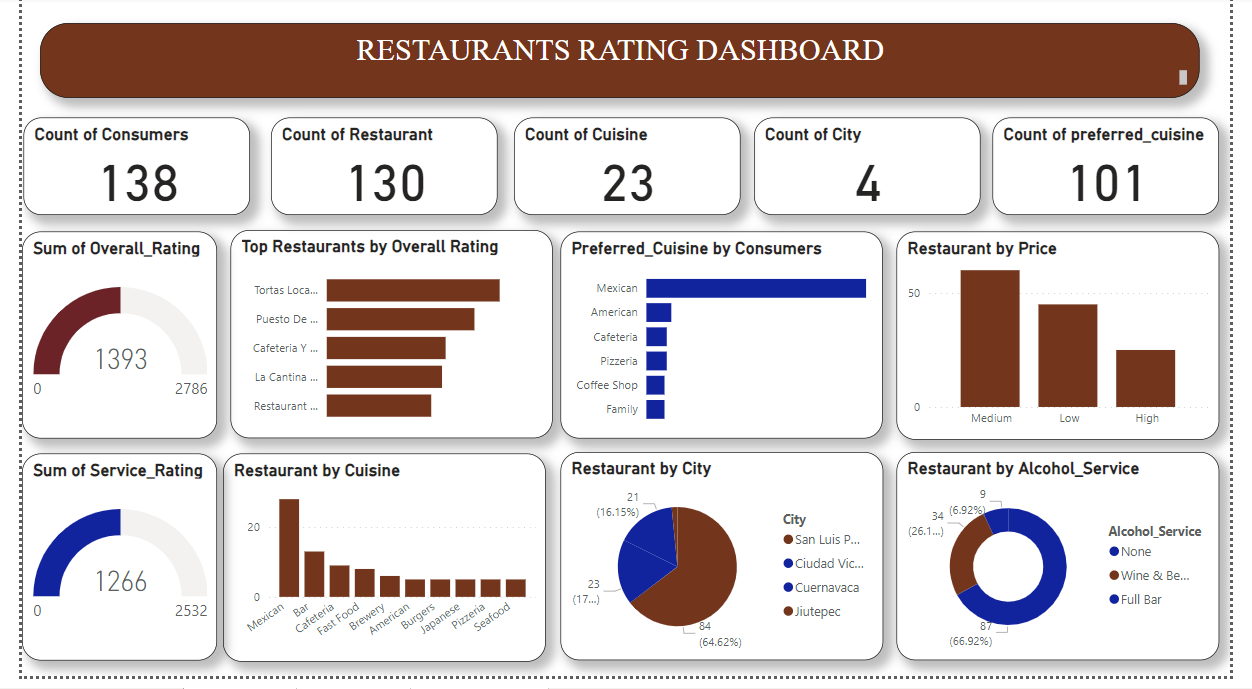

The dashboard page shown, as its layout file describes it:
{"tool":"powerbi","page":{"name":"Page 1","canvas":[1280,720],"ordinal":0},"visuals":[{"type":"barChart","title":"Top Restaurants by Overall Rating","fields":{"Category":["restaurants.Name"],"Y":["Sum(ratings.Overall_Rating)"]},"box":[220.9,247.9,341,220.9],"z":0},{"type":"barChart","title":"Preferred_Cuisine by Consumers","fields":{"Category":["consumer_preferences.Preferred_Cuisine"],"Y":["CountNonNull(consumer_preferences.Consumer_ID)"]},"box":[570.6,249.5,341,219.3],"z":1000},{"type":"textbox","title":"RESTAURANTS RATING DASHBOARD","box":[19.1,28.6,1228.6,79.5],"z":2000},{"type":"columnChart","title":" Restaurant by Price","fields":{"Category":["restaurants.Price"],"Y":["CountNonNull(restaurants.Restaurant_ID)"]},"box":[926.6,249.5,341.7,220.9],"z":3000},{"type":"columnChart","title":" Restaurant by Cuisine","fields":{"Category":["restaurant_cuisines.Cuisine"],"Y":["CountNonNull(restaurant_cuisines.Restaurant_ID)"]},"box":[213,484.8,341.7,220.9],"z":4000},{"type":"card","title":"Count of Restaurant","fields":{"Values":["CountNonNull(restaurants.Restaurant_ID)"]},"box":[263.8,128.7,240,103.3],"z":5000},{"type":"pieChart","title":"Restaurant by City","fields":{"Category":["restaurants.City"],"Y":["CountNonNull(restaurants.Restaurant_ID)"]},"box":[570.6,483.2,341.7,220.9],"z":6000},{"type":"donutChart","title":"Restaurant by Alcohol_Service","fields":{"Category":["restaurants.Alcohol_Service"],"Y":["CountNonNull(restaurants.Name)"]},"box":[926.6,483.2,341.7,220.9],"z":7000},{"type":"card","title":"Count of Consumers","fields":{"Values":["Count(consumers.Consumer_ID)"]},"box":[1.6,128.7,240,103.3],"z":8000},{"type":"card","title":"Count of City","fields":{"Values":["Count(restaurants.City)"]},"box":[775.6,128.7,240,103.3],"z":9000},{"type":"card","title":"Count of Cuisine","fields":{"Values":["Count(restaurant_cuisines.Cuisine)"]},"box":[521.3,128.7,240,103.3],"z":10000},{"type":"gauge","fields":{"Y":["Sum(ratings.Overall_Rating)"]},"box":[0,249.5,206.6,219.3],"z":11000},{"type":"gauge","fields":{"Y":["Sum(ratings.Service_Rating)"]},"box":[0,484.8,206.6,219.3],"z":12000},{"type":"card","title":"Count of preferred_cuisine","fields":{"Values":["Count(consumer_preferences.Preferred_Cuisine)"]},"box":[1028.3,128.7,240,103.3],"z":13000}]}

Visuals, with their boxes in screenshot pixels (x1, y1, x2, y2), scaled from the page's 1280x720 canvas onto the 1252x689 screenshot:
"Top Restaurants by Overall Rating" barChart: Rect(216, 237, 550, 449)
"Preferred_Cuisine by Consumers" barChart: Rect(558, 239, 892, 449)
"RESTAURANTS RATING DASHBOARD" textbox: Rect(19, 27, 1220, 103)
" Restaurant by Price" columnChart: Rect(906, 239, 1241, 450)
" Restaurant by Cuisine" columnChart: Rect(208, 464, 543, 675)
"Count of Restaurant" card: Rect(258, 123, 493, 222)
"Restaurant by City" pieChart: Rect(558, 462, 892, 674)
"Restaurant by Alcohol_Service" donutChart: Rect(906, 462, 1241, 674)
"Count of Consumers" card: Rect(2, 123, 236, 222)
"Count of City" card: Rect(759, 123, 993, 222)
"Count of Cuisine" card: Rect(510, 123, 745, 222)
gauge - Sum(ratings.Overall_Rating): Rect(0, 239, 202, 449)
gauge - Sum(ratings.Service_Rating): Rect(0, 464, 202, 674)
"Count of preferred_cuisine" card: Rect(1006, 123, 1241, 222)
